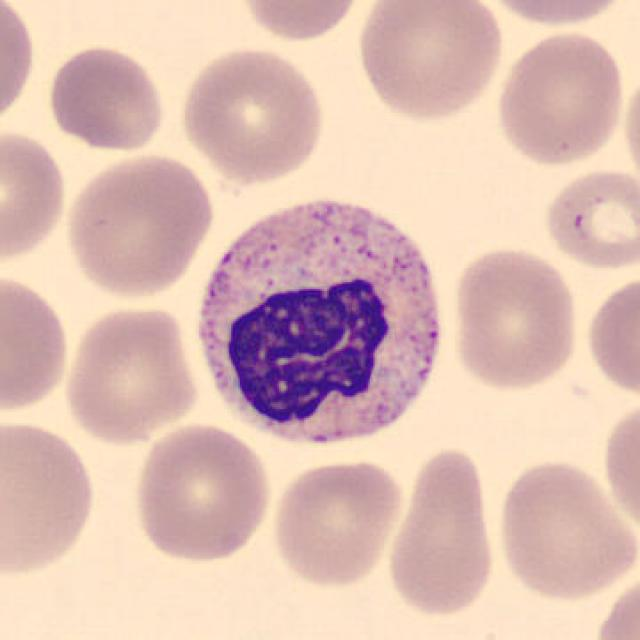Neutrophil: (183, 182, 457, 462)
RBC: (60, 150, 217, 301), (174, 42, 329, 185), (128, 420, 276, 566), (382, 444, 502, 622), (492, 455, 636, 603), (446, 241, 583, 395), (59, 302, 202, 446), (492, 27, 628, 170), (352, 0, 506, 123), (269, 455, 407, 591), (0, 416, 100, 582), (43, 42, 169, 155), (0, 268, 73, 418), (540, 164, 638, 273), (0, 125, 71, 268), (582, 270, 638, 400), (231, 0, 368, 44), (599, 395, 640, 539), (0, 0, 37, 132), (476, 0, 634, 30), (590, 567, 638, 640), (620, 62, 640, 185)
